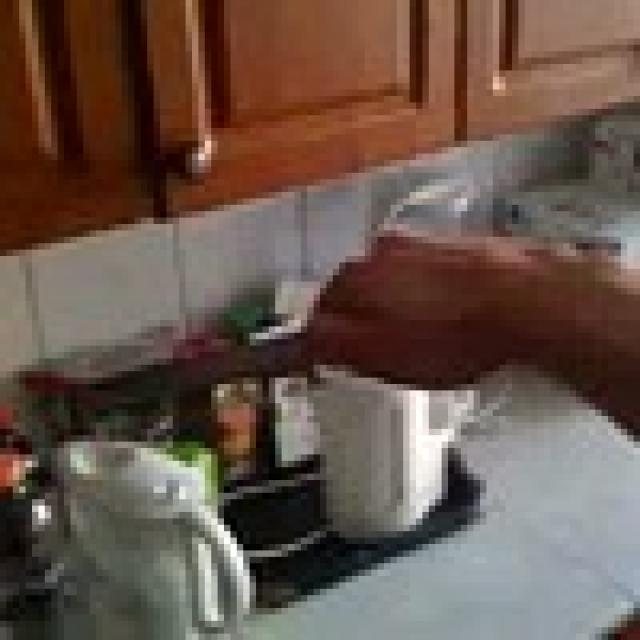Knife: (83, 294, 384, 416)
